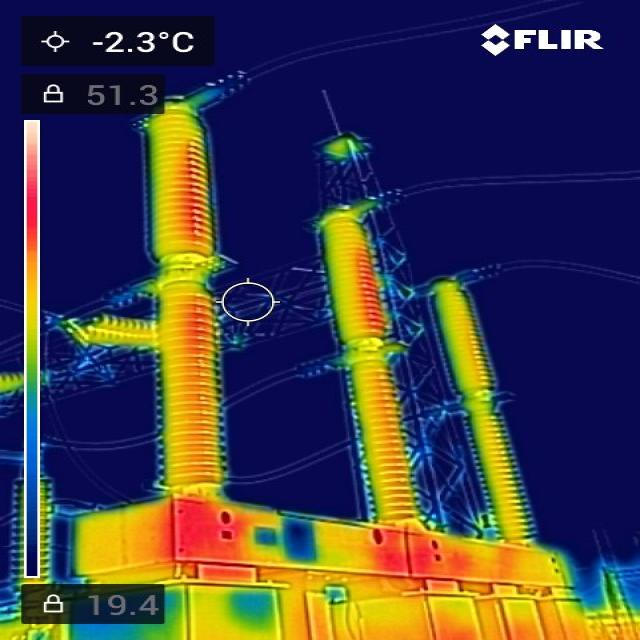Zona_Atenco: (440, 538, 527, 576), (352, 247, 390, 332), (184, 141, 209, 241)
Zona_Critica: (171, 499, 229, 562), (387, 554, 438, 578), (380, 532, 432, 554)
